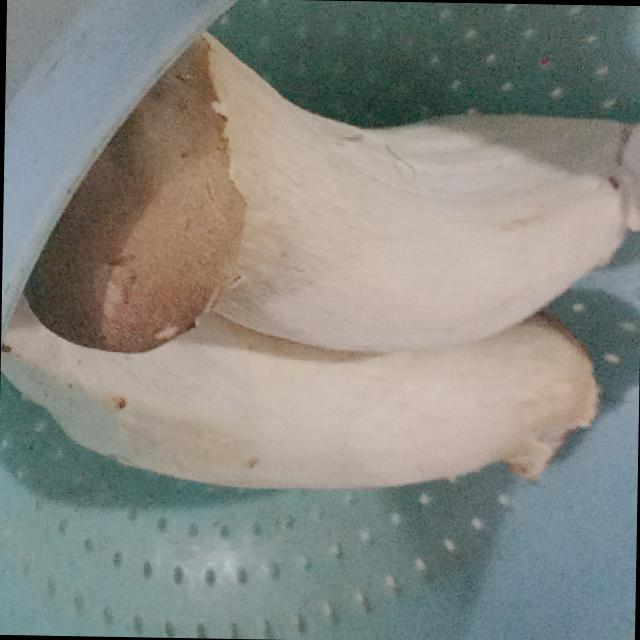Pleurotus eryngii: (24, 25, 640, 354)
